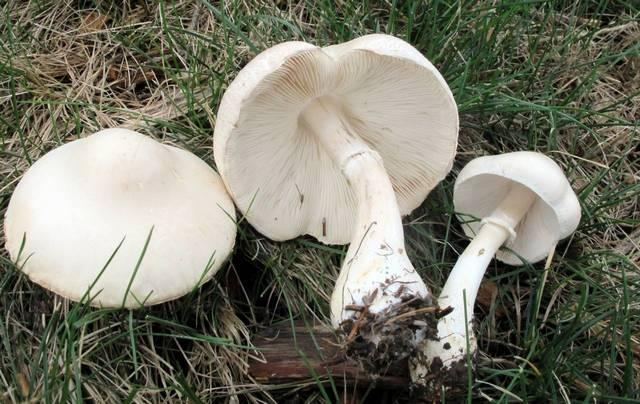Non-edible Mushroom: (211, 31, 460, 332), (2, 126, 237, 310), (407, 149, 582, 389)
